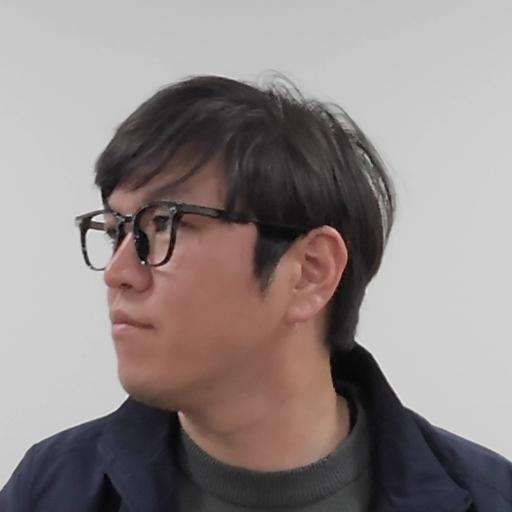no_glasses: (69, 78, 400, 407)
